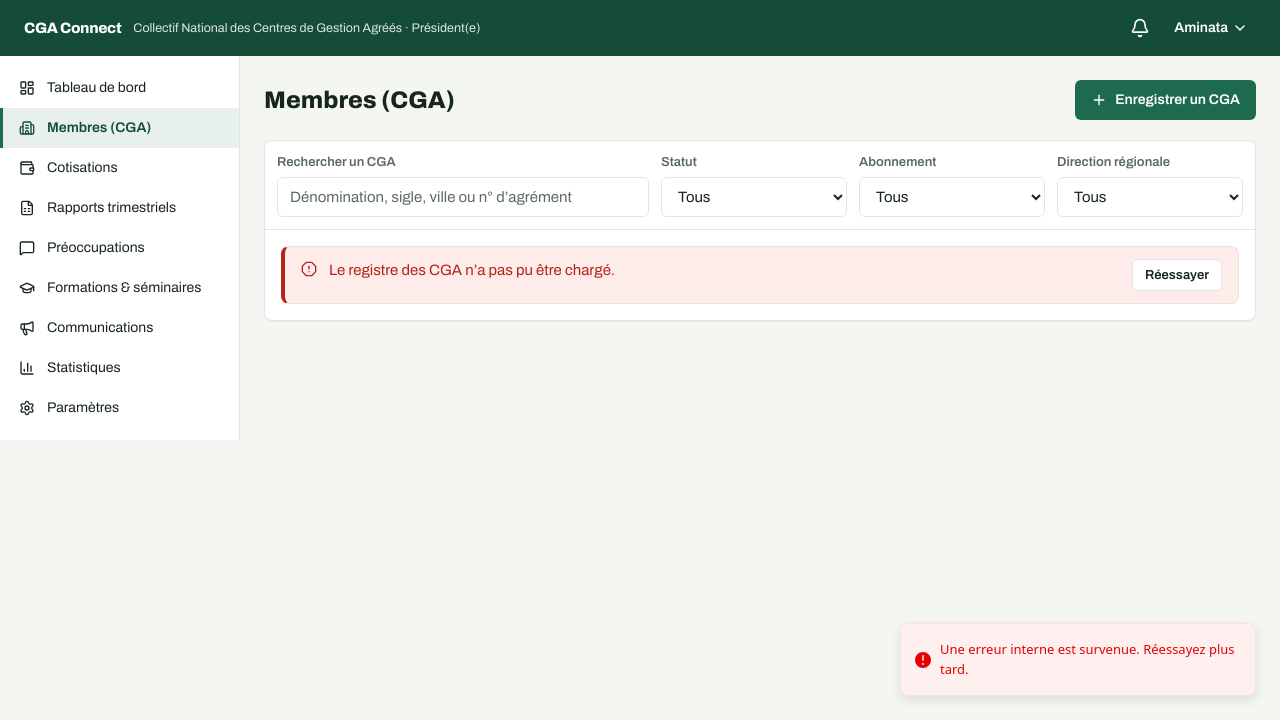
Test: /cncga/membres · registre des CGA (F-ORG-01) › erreur du serveur : bandeau et « Réessayer », qui recharge le registre
The image size is (1280, 720).
Expected: the text "Le registre des CGA n’a pas pu être chargé." is shown, [329,262,615,278]
Click the button "Réessayer".
click(1177, 275)  # box [1132,259,1222,291]
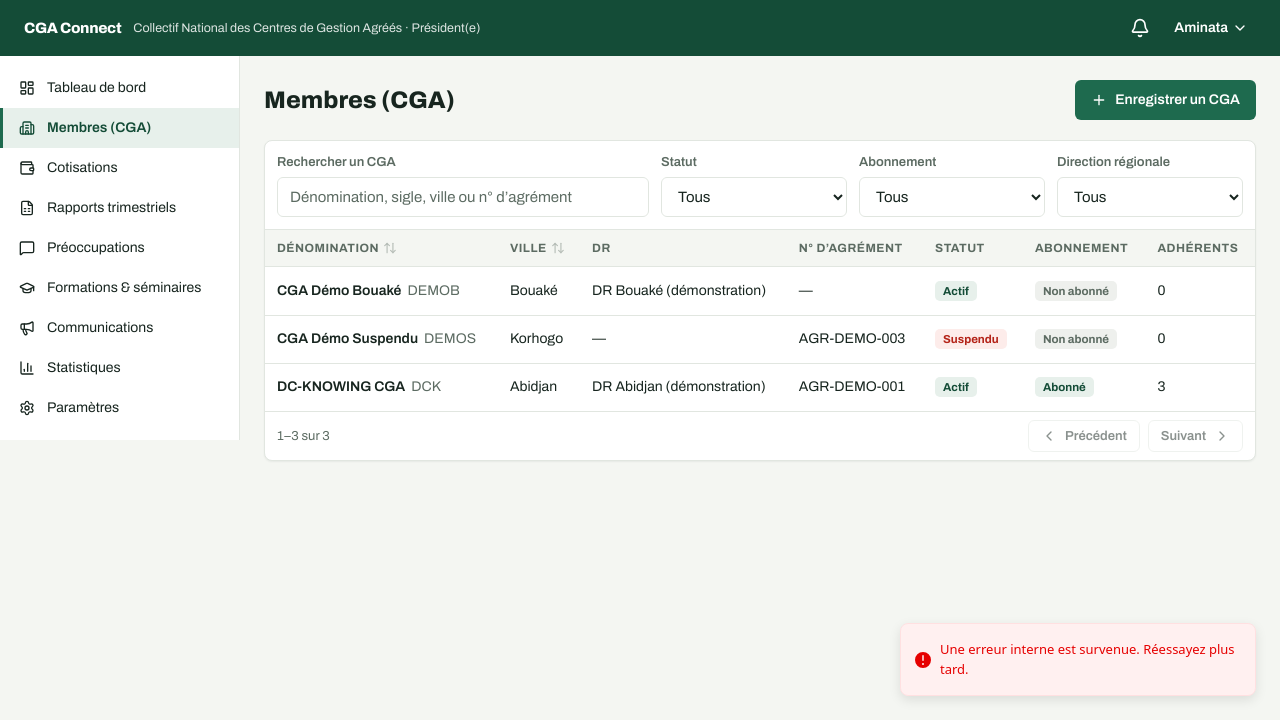
Expected: the table named "Registre des CGA du réseau" is shown, [265,230,1255,411]
